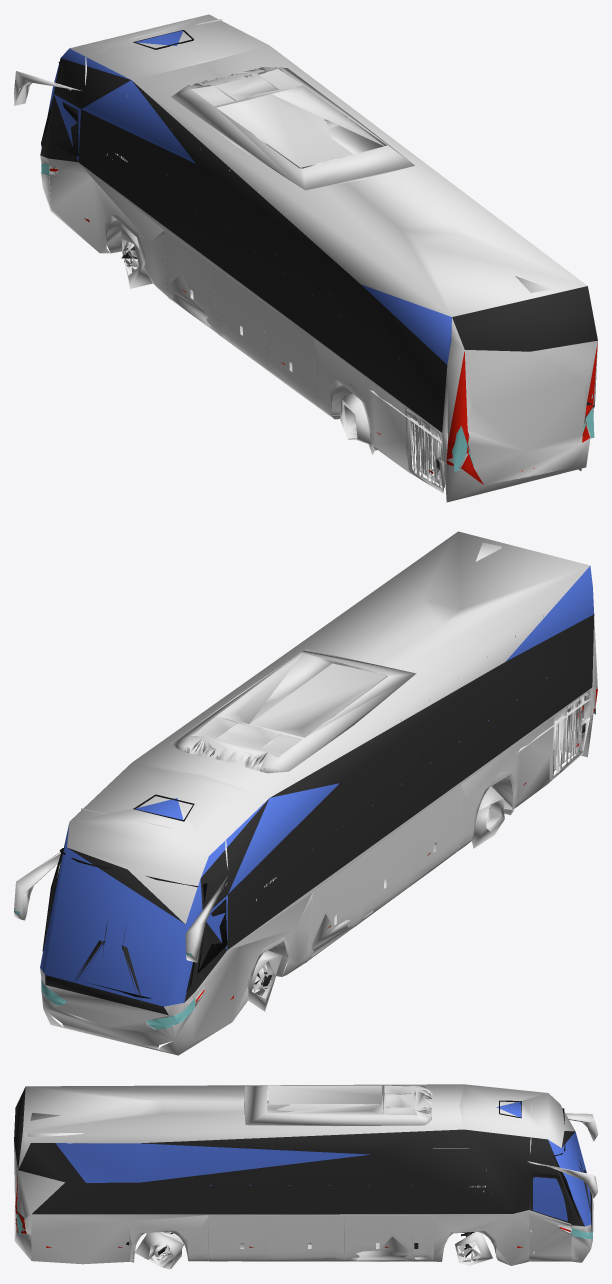
File: bus.glb
3 renders of one model, top to bottom at view 1: azimuth 30°, elevation 25°; view 2: azimuth 150°, elevation 25°; view 3: azimuth 270°, elevation 25°, orthographic. The views are drawn at different scales.
Parts seen in each view (by area): view 1: Cubo; view 2: Cubo; view 3: Cubo.
Boxes of the visible parts, x1,y1,x2,y2 form: Cubo: (14,14,597,502); Cubo: (14,531,597,1055); Cubo: (14,1084,597,1269).
Size of the model in its own units: 2.97 by 3.5 by 12.
